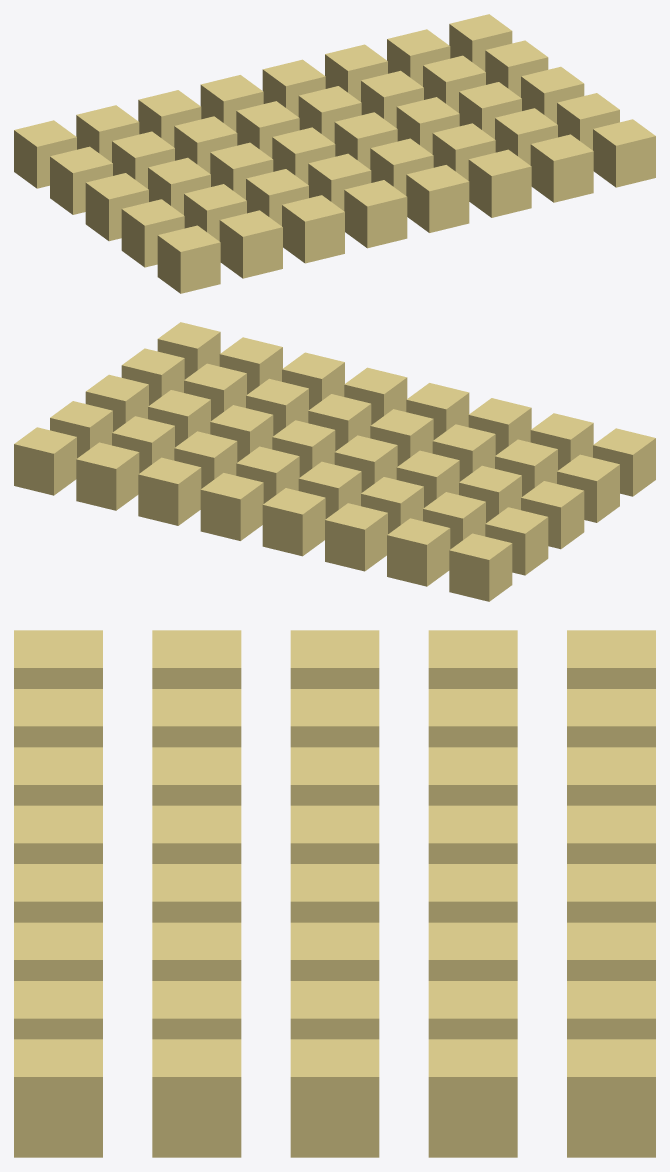
The model's file is MultiMeshField40.gltf.
The picture shows the model from 3 angles, top to bottom: view 1: azimuth 30°, elevation 25°; view 2: azimuth 150°, elevation 25°; view 3: azimuth 270°, elevation 25°; orthographic projection. The views are drawn at different scales.
Visible parts, largest first — view 1: FieldCube32, FieldCube33, FieldCube38, FieldCube35, FieldCube37, FieldCube36, FieldCube39, FieldCube34, FieldCube24, FieldCube16, FieldCube00, FieldCube08 (+28 smaller); view 2: FieldCube00, FieldCube01, FieldCube06, FieldCube03, FieldCube05, FieldCube04, FieldCube07, FieldCube02, FieldCube08, FieldCube16, FieldCube32, FieldCube24 (+28 smaller); view 3: FieldCube15, FieldCube23, FieldCube31, FieldCube07, FieldCube39, FieldCube08, FieldCube10, FieldCube12, FieldCube16, FieldCube18, FieldCube20, FieldCube24 (+28 smaller).
Boxes of the visible parts, x1,y1,x2,y2 form: FieldCube32: [157, 225, 220, 293]; FieldCube33: [219, 210, 282, 278]; FieldCube38: [530, 134, 593, 202]; FieldCube35: [344, 180, 407, 248]; FieldCube37: [468, 149, 531, 217]; FieldCube36: [406, 165, 469, 232]; FieldCube39: [593, 119, 655, 187]; FieldCube34: [282, 195, 344, 263]; FieldCube24: [121, 199, 184, 267]; FieldCube16: [85, 173, 148, 241]; FieldCube00: [14, 120, 76, 188]; FieldCube08: [50, 146, 112, 214]; FieldCube00: [449, 533, 512, 601]; FieldCube01: [387, 518, 450, 586]; FieldCube06: [76, 442, 139, 510]; FieldCube03: [262, 488, 325, 556]; FieldCube05: [138, 457, 201, 525]; FieldCube04: [200, 473, 263, 540]; FieldCube07: [14, 427, 76, 495]; FieldCube02: [325, 503, 387, 571]; FieldCube08: [485, 507, 548, 575]; FieldCube16: [521, 481, 584, 549]; FieldCube32: [593, 428, 655, 496]; FieldCube24: [557, 454, 619, 522]; FieldCube15: [428, 1039, 517, 1157]; FieldCube23: [290, 1039, 379, 1157]; FieldCube31: [152, 1039, 241, 1157]; FieldCube07: [567, 1039, 655, 1157]; FieldCube39: [14, 1039, 102, 1157]; FieldCube08: [428, 630, 517, 688]; FieldCube10: [428, 747, 517, 805]; FieldCube12: [428, 864, 517, 922]; FieldCube16: [290, 630, 379, 688]; FieldCube18: [290, 747, 379, 805]; FieldCube20: [290, 864, 379, 922]; FieldCube24: [152, 630, 241, 688].
Size of the model in its own units: 5.35 by 0.45 by 3.25.
